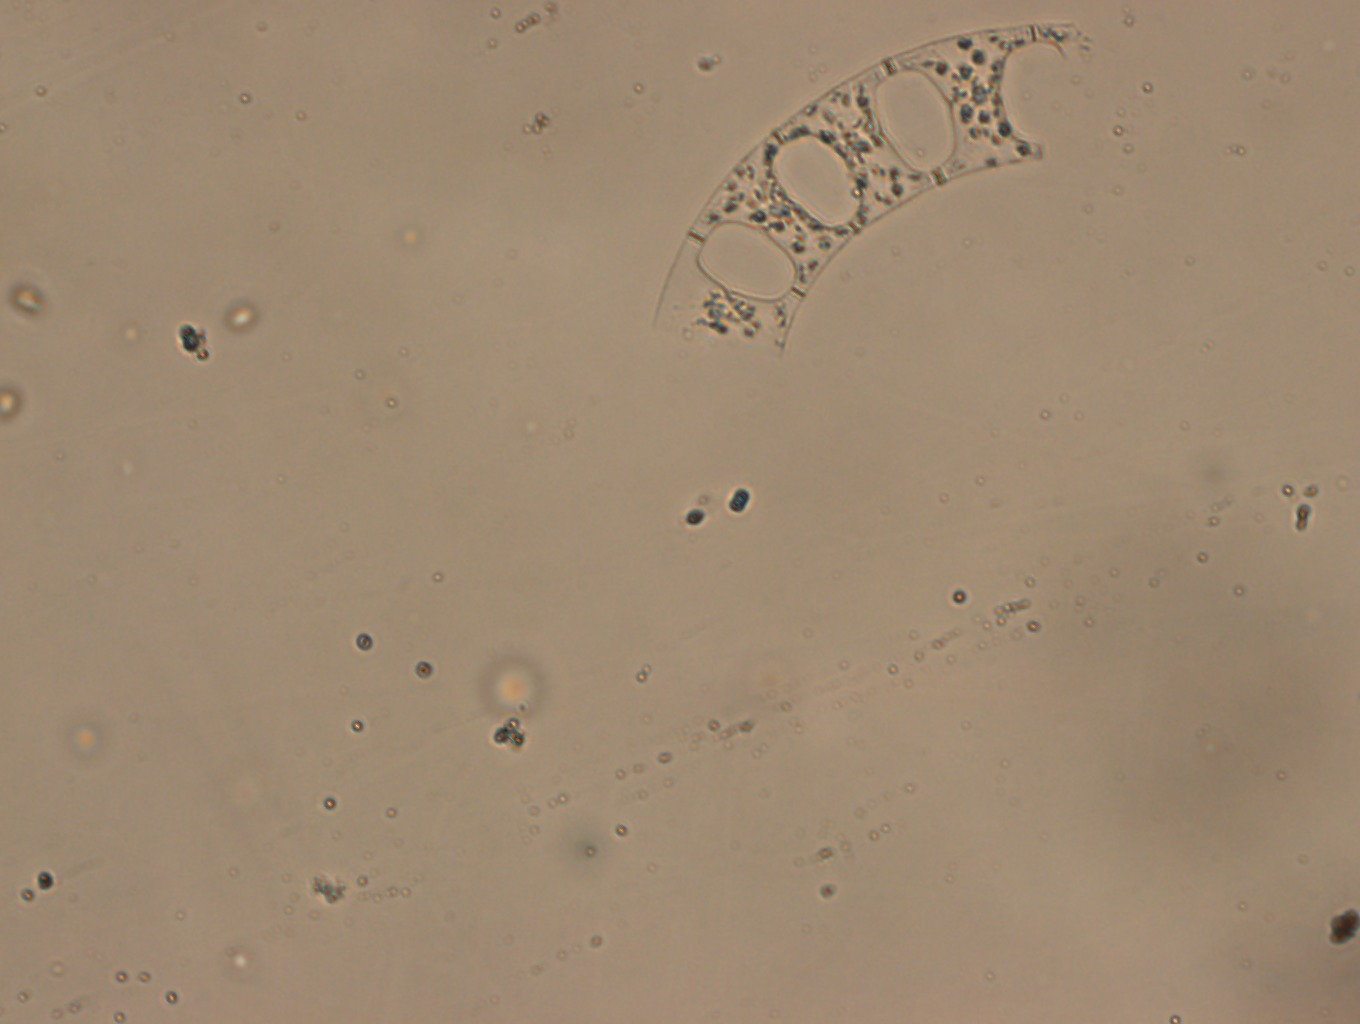eucampia: (643, 8, 1112, 370)
